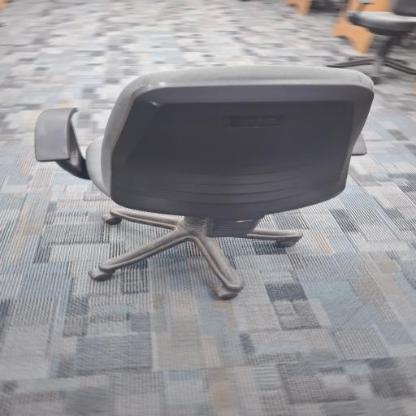chair: (26, 50, 381, 309)
